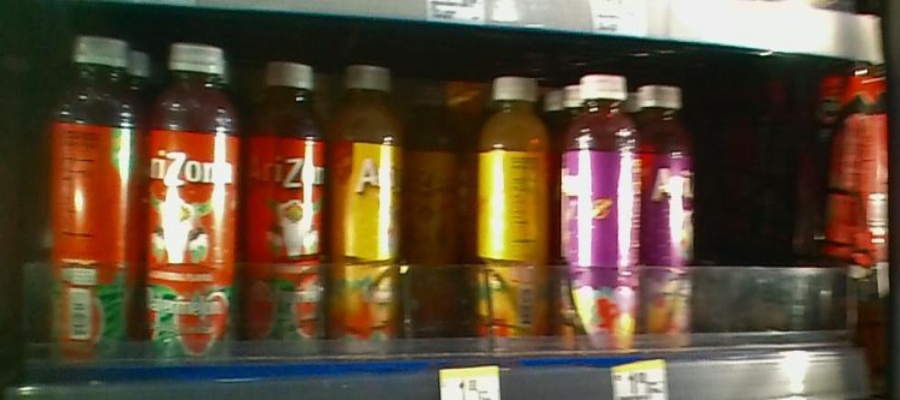bottle: (145, 30, 243, 364), (45, 34, 143, 362), (469, 66, 554, 358), (328, 38, 403, 366), (247, 44, 325, 359), (562, 74, 637, 360), (405, 67, 465, 341), (639, 77, 700, 346)
